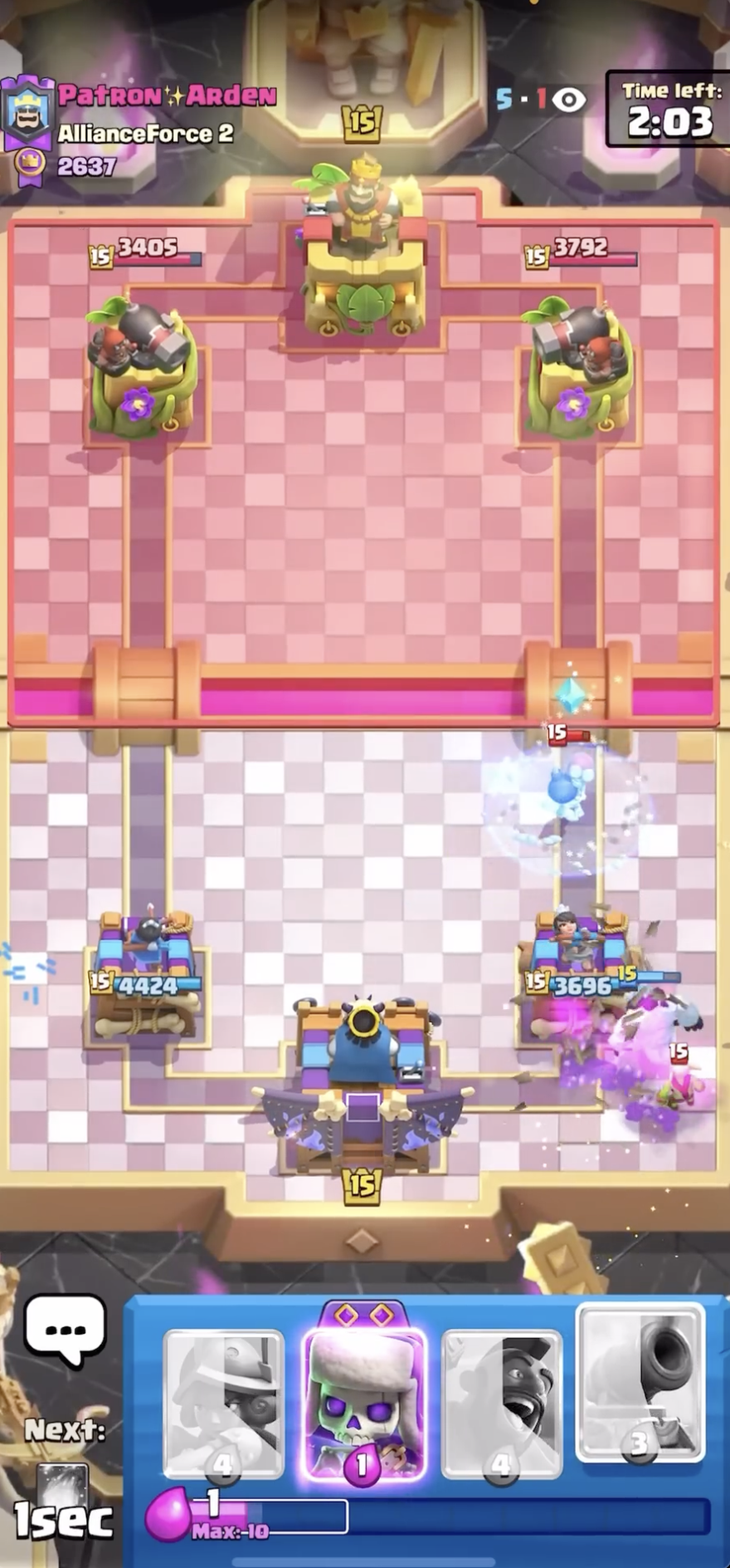bomber: (538, 718, 600, 826)
